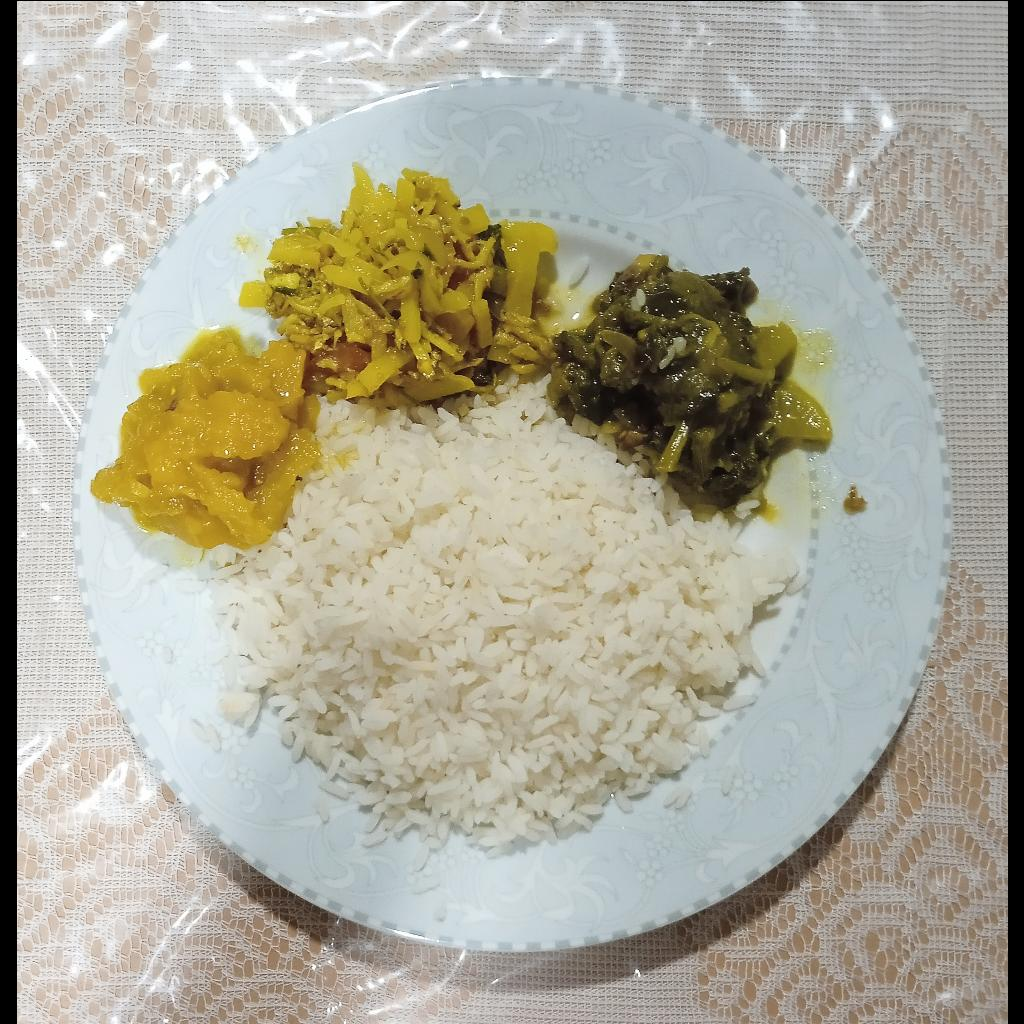kumra-vaji: (89, 330, 319, 547)
rice: (180, 375, 806, 872)
shak: (551, 248, 833, 504)
vegetable: (237, 161, 557, 406)
